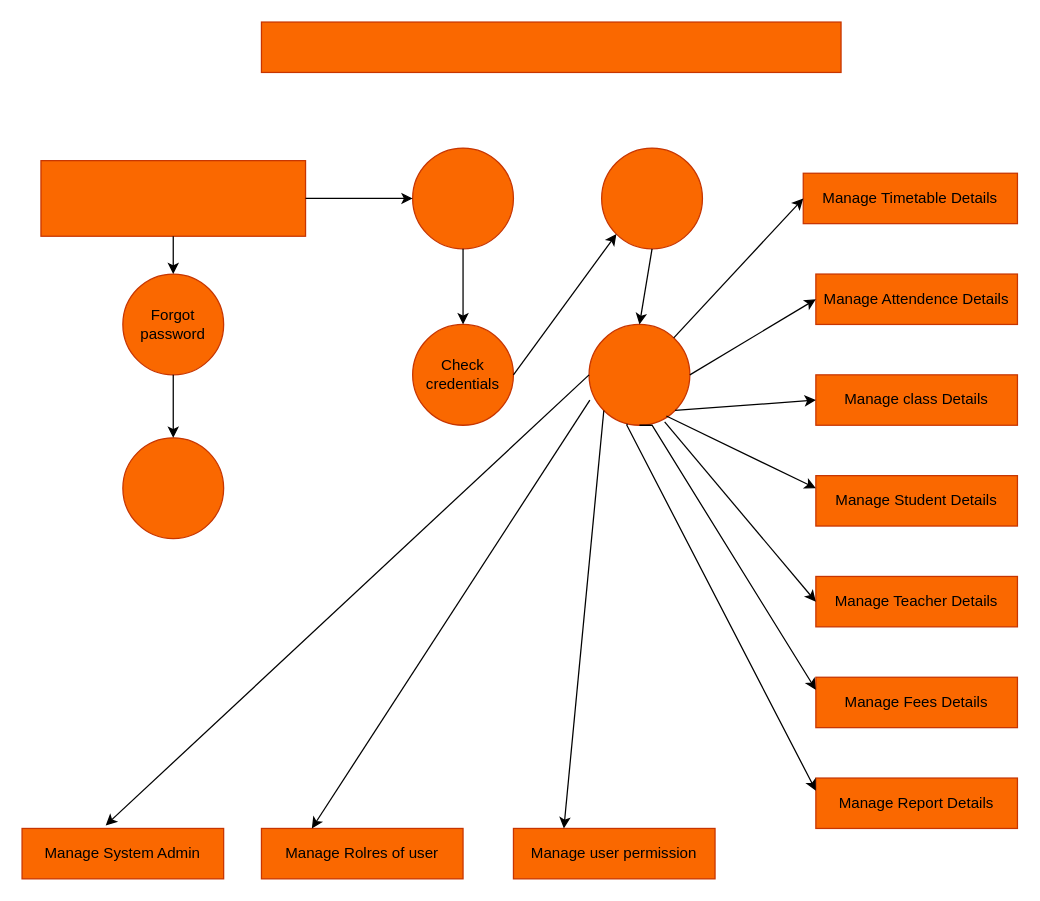
Image size: 1040x901. Some labels were removed from this diagram. The shapes that lost their labels are listed below. From the top down, each one's box as (x1, y1, x2, y2) in pixels, then its label:
(260, 21, 841, 72): student information system
(40, 159, 306, 236): Admin
(411, 147, 513, 249): Login to system
(600, 147, 702, 249): Check Roles of Access
(588, 323, 690, 425): Manage modules
(122, 437, 224, 539): Send email to user
